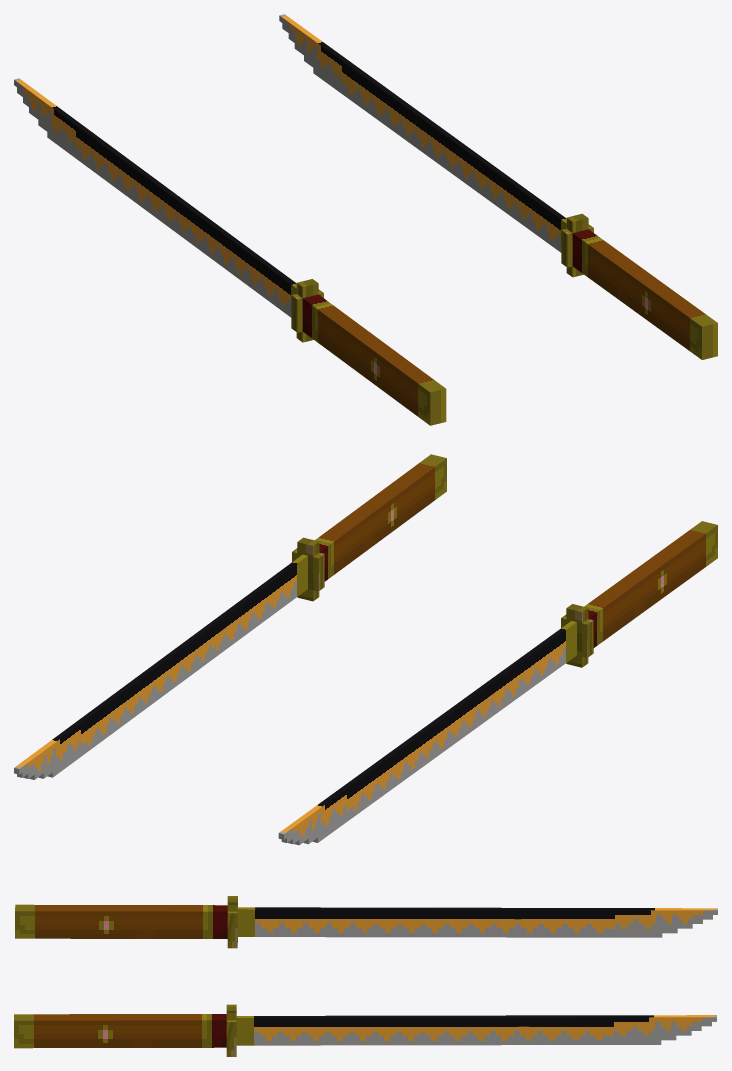
Rendered from katana.glb.
3 renders of one model, top to bottom at view 1: azimuth 30°, elevation 25°; view 2: azimuth 150°, elevation 25°; view 3: azimuth 270°, elevation 25°, orthographic. The views are drawn at different scales.
Parts seen in each view (by area): view 1: main__Tool_R, off__Tool_L; view 2: off__Tool_L, main__Tool_R; view 3: off__Tool_L, main__Tool_R.
Boxes of the visible parts, x1,y1,x2,y2 form: main__Tool_R: [279, 14, 717, 359]; off__Tool_L: [14, 78, 446, 425]; off__Tool_L: [278, 521, 717, 845]; main__Tool_R: [14, 454, 446, 779]; off__Tool_L: [15, 896, 717, 948]; main__Tool_R: [14, 1004, 716, 1056].
Bounding box in the file's own units: 0.8724 × 0.1563 × 2.17.
Materials: 1 (1 with a texture image).
